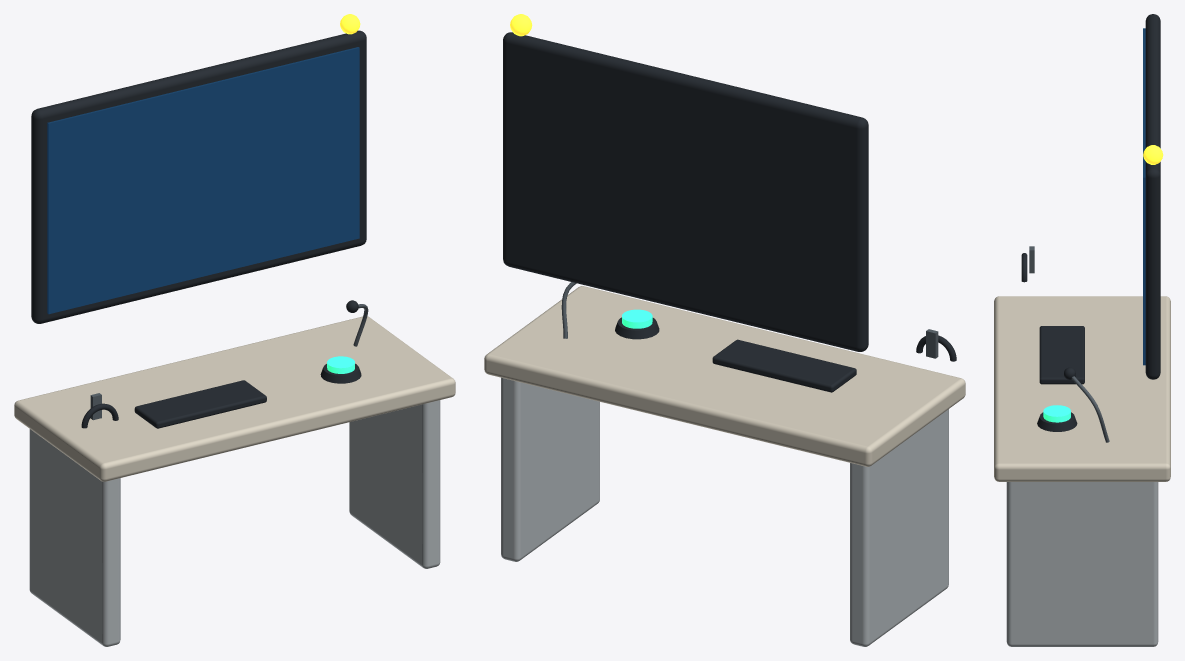
The model's file is earth-link-console.glb.
3 renders of one model, left to right at view 1: azimuth 30°, elevation 25°; view 2: azimuth 150°, elevation 25°; view 3: azimuth 270°, elevation 25°, orthographic. The views are drawn at different scales.
Parts seen in each view (by area): view 1: earth-screen, earth-link-console-hull-cream, earth-link-console-panel-grey, earth-link-console-dark-polymer; view 2: earth-link-console-dark-polymer, earth-link-console-hull-cream, earth-link-console-panel-grey; view 3: earth-link-console-hull-cream, earth-link-console-panel-grey, earth-link-console-dark-polymer, earth-screen, earth-link-console-dark-steel, send_button-dark-polymer, send-cap, antenna-dome.
Part boxes in pixels (box(x1,y1,x2,y2)): earth-screen: box(47, 47, 359, 314); earth-link-console-hull-cream: box(14, 316, 455, 481); earth-link-console-panel-grey: box(29, 400, 440, 646); earth-link-console-dark-polymer: box(31, 30, 366, 428); earth-link-console-dark-polymer: box(503, 32, 956, 392); earth-link-console-hull-cream: box(484, 286, 965, 466); earth-link-console-panel-grey: box(501, 377, 948, 646); earth-link-console-hull-cream: box(994, 296, 1170, 481); earth-link-console-panel-grey: box(1006, 482, 1158, 646); earth-link-console-dark-polymer: box(1021, 14, 1160, 384); earth-screen: box(1143, 28, 1145, 365); earth-link-console-dark-steel: box(1029, 246, 1109, 442); send_button-dark-polymer: box(1037, 412, 1077, 431); send-cap: box(1043, 405, 1070, 422); antenna-dome: box(1143, 145, 1163, 164).
Size of the model in its own units: 1.62 by 2.16 by 0.7.
